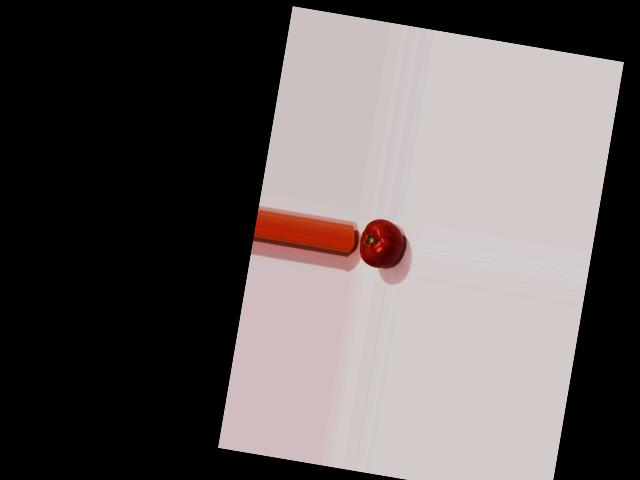tomato: (357, 216, 406, 270)
